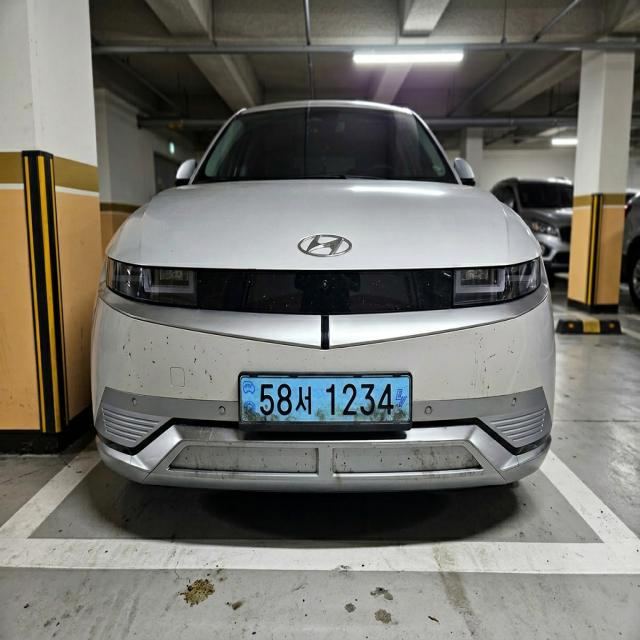car: (233, 363, 433, 443)
carev: (389, 371, 415, 427), (242, 376, 259, 425)
